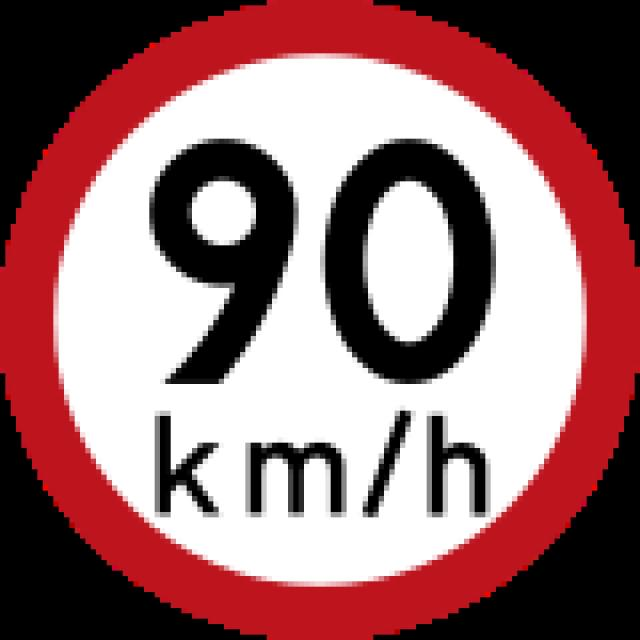Speed Limit -90-: (139, 128, 507, 392)
